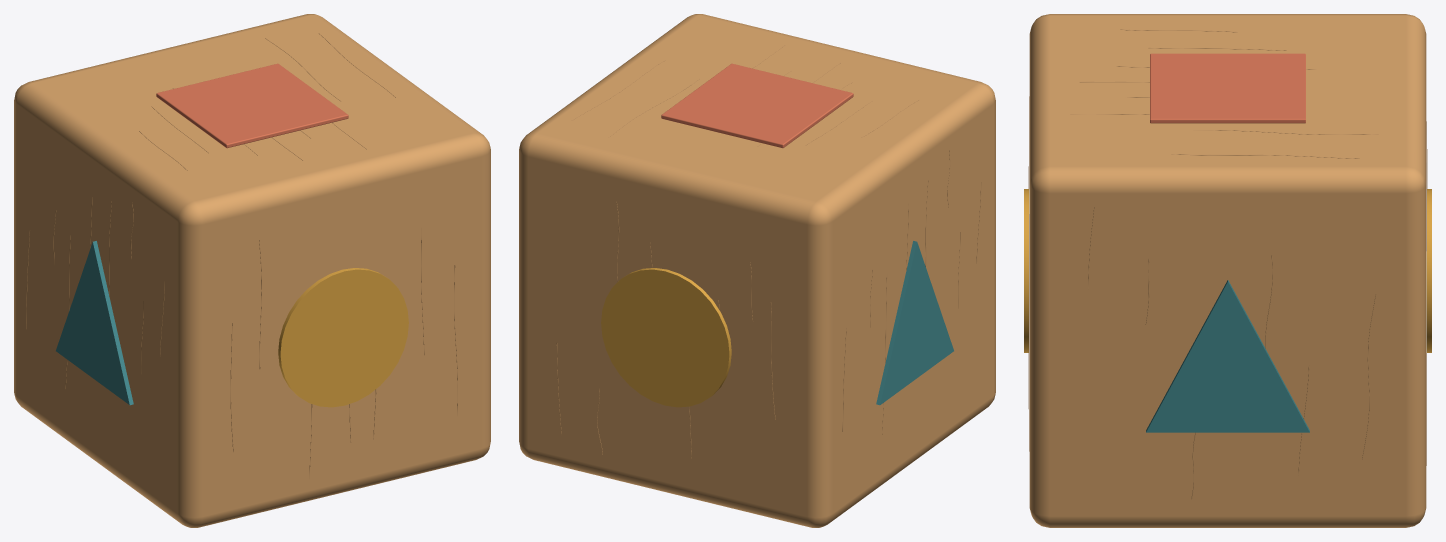
File: play-cube-varied-grain.glb
The picture shows the model from 3 angles, left to right: view 1: azimuth 30°, elevation 25°; view 2: azimuth 150°, elevation 25°; view 3: azimuth 270°, elevation 25°; orthographic projection. The views are drawn at different scales.
Parts seen in each view (by area): view 1: Cube_Wood, Cube_Yellow_Circle_Front, Cube_Coral_Square_Top, Cube_Blue_Triangle_Left; view 2: Cube_Wood, Cube_Yellow_Circle_Back, Cube_Coral_Square_Top, Cube_Blue_Triangle_Left; view 3: Cube_Wood, Cube_Blue_Triangle_Right, Cube_Coral_Square_Top, Cube_Yellow_Circle_Back, Cube_Yellow_Circle_Front.
Boxes of the visible parts, bbox=[...] form: Cube_Wood: bbox=[14, 14, 490, 527]; Cube_Yellow_Circle_Front: bbox=[278, 268, 408, 407]; Cube_Coral_Square_Top: bbox=[156, 63, 348, 148]; Cube_Blue_Triangle_Left: bbox=[56, 241, 133, 405]; Cube_Wood: bbox=[519, 14, 995, 527]; Cube_Yellow_Circle_Back: bbox=[601, 268, 731, 407]; Cube_Coral_Square_Top: bbox=[661, 63, 853, 148]; Cube_Blue_Triangle_Left: bbox=[876, 241, 953, 405]; Cube_Wood: bbox=[1029, 14, 1426, 527]; Cube_Blue_Triangle_Right: bbox=[1146, 280, 1309, 432]; Cube_Coral_Square_Top: bbox=[1150, 53, 1305, 123]; Cube_Yellow_Circle_Back: bbox=[1426, 189, 1431, 352]; Cube_Yellow_Circle_Front: bbox=[1024, 189, 1029, 352].
Bounding box in the file's own units: 0.1592 × 0.1592 × 0.1592.
